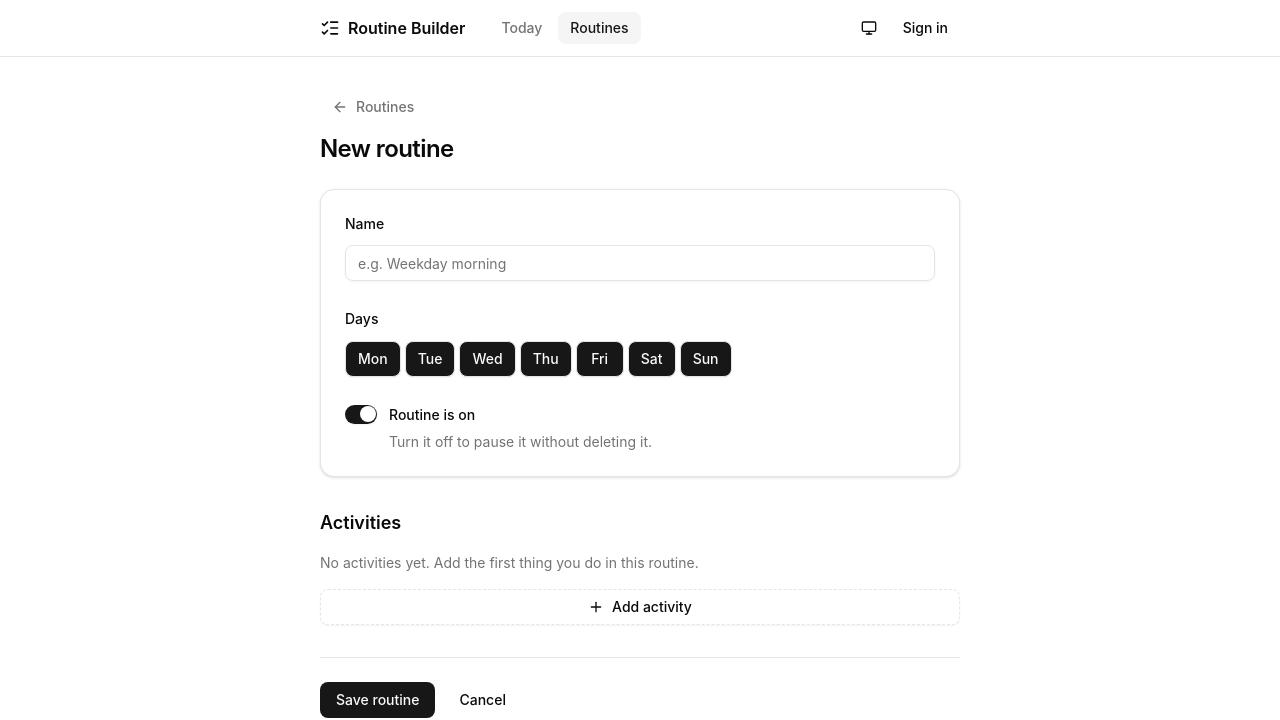
it: creating a routine › discards the draft on cancel
The image size is (1280, 720).
Expected: the heading "Routine Builder" is shown, [348,16,465,40]
Step 1. Type "Evening" into the field labelled "Name" → (640, 263), box [345,245,935,281]
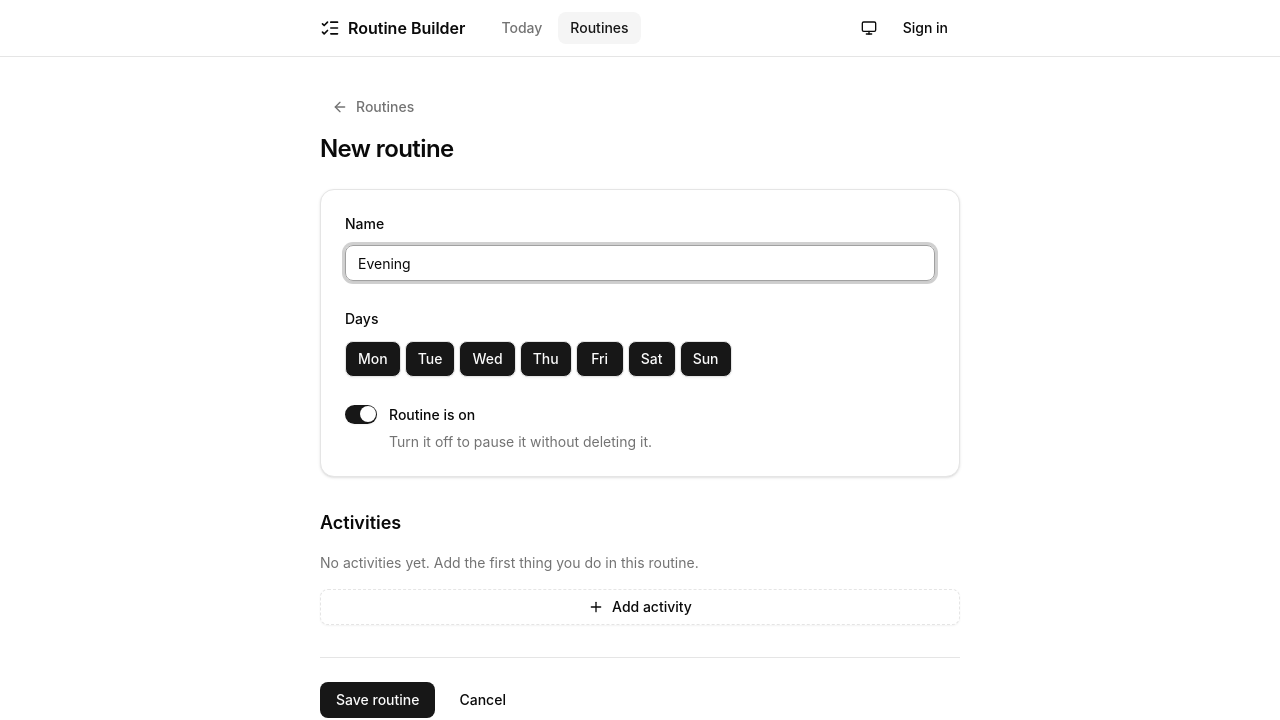
Step 2. Click the button "Cancel" → (483, 700), box [444,682,522,718]
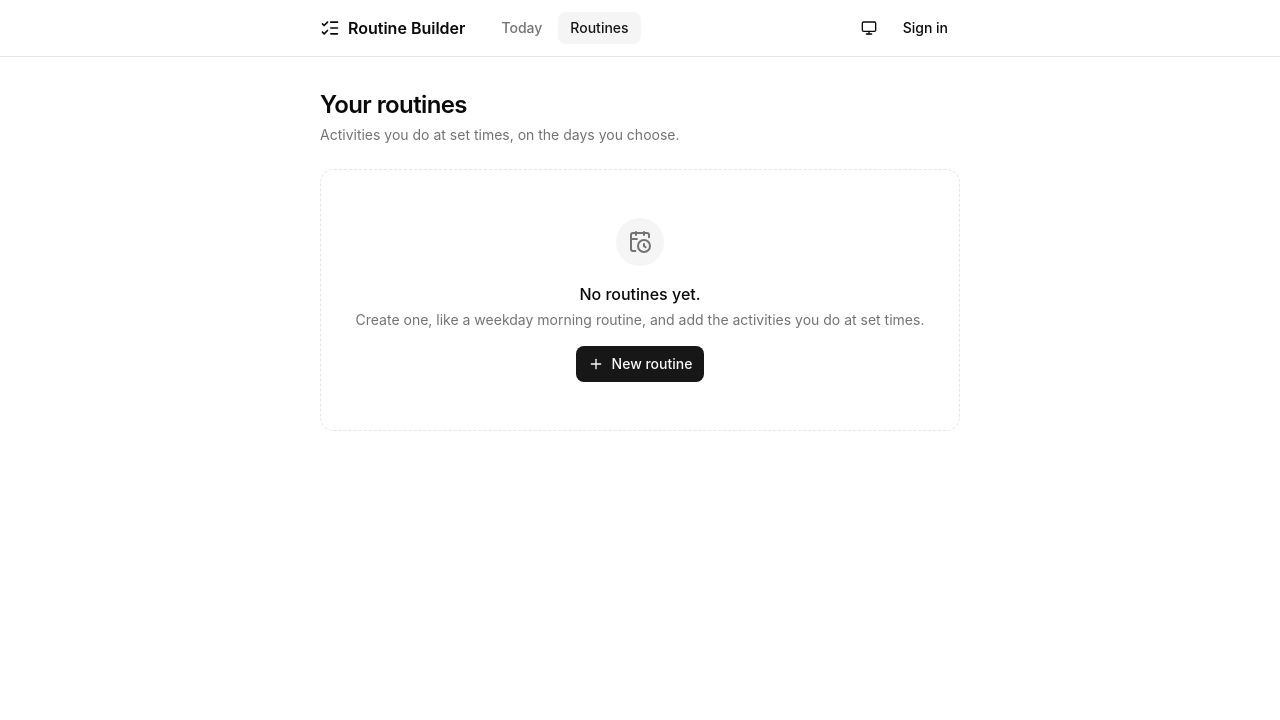
Expected: the text "No routines yet." is shown, [579,284,701,304]
